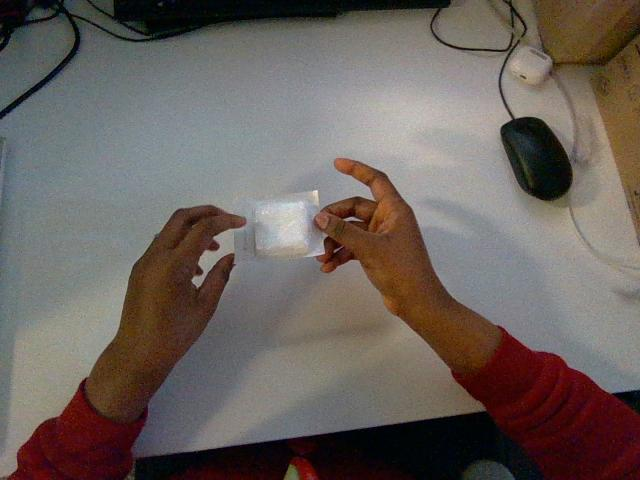gauze: (234, 191, 323, 262)
